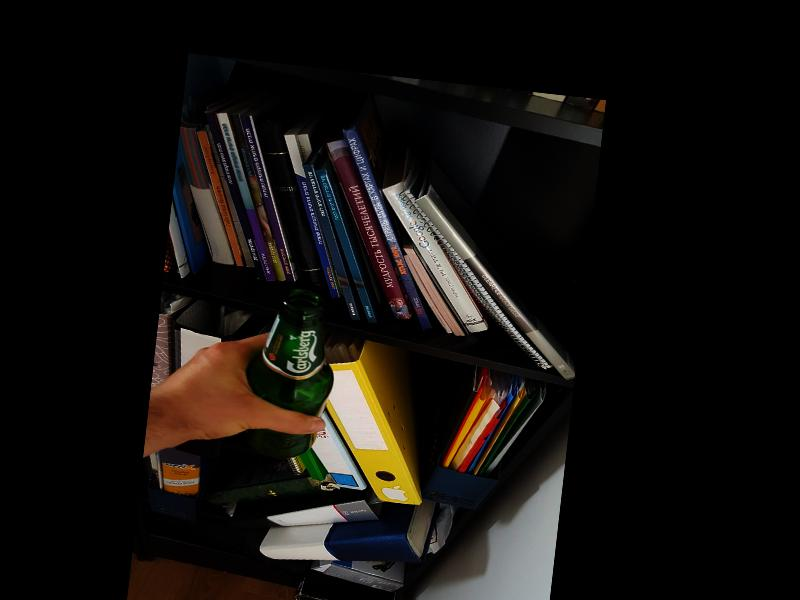Beer: (239, 284, 341, 465)
